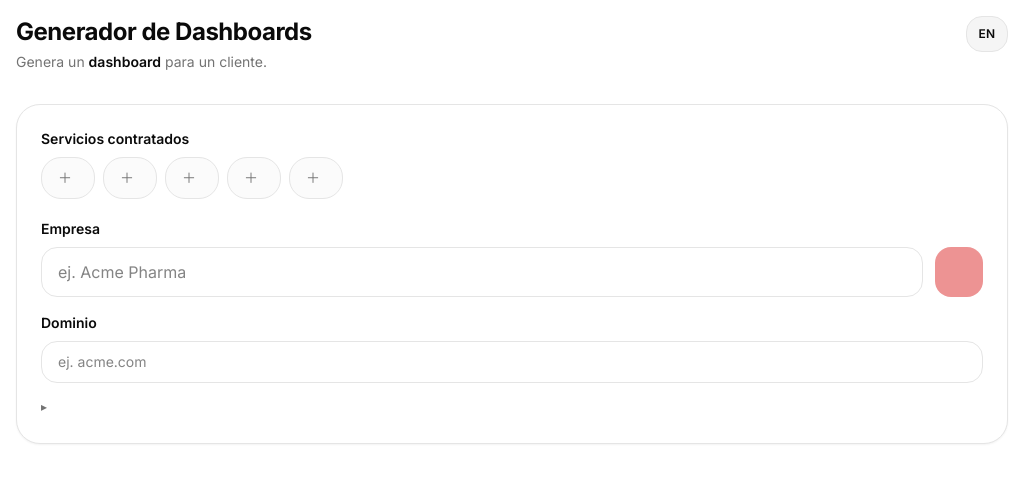
Test case: Dashboard Builder page — company picker › clicking a dropdown row fills the company field and closes the dropdown
The image size is (1025, 481).
Focus the field with placeholder "ej. Acme Pharma" at (482, 272), box left=41, top=247, right=923, bottom=297
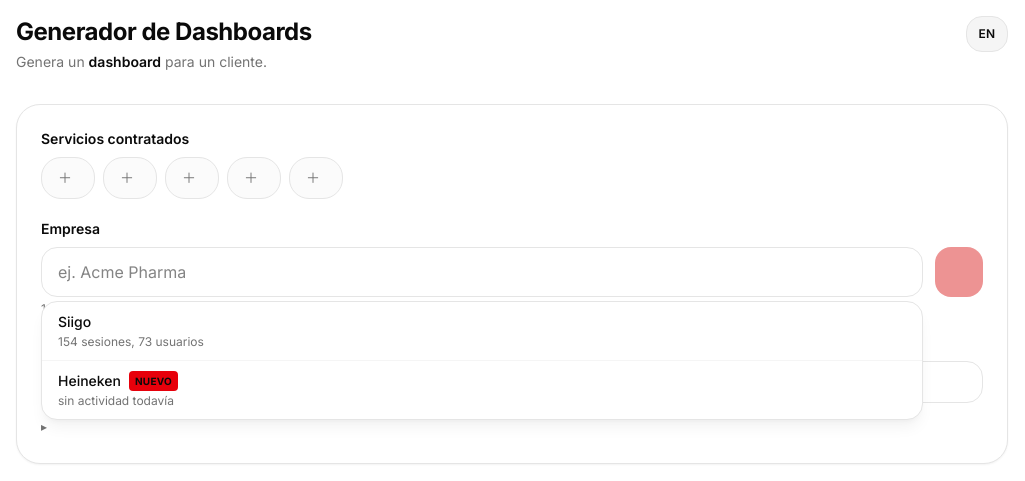
Click the text "Heineken" at (90, 381), box left=58, top=371, right=121, bottom=391
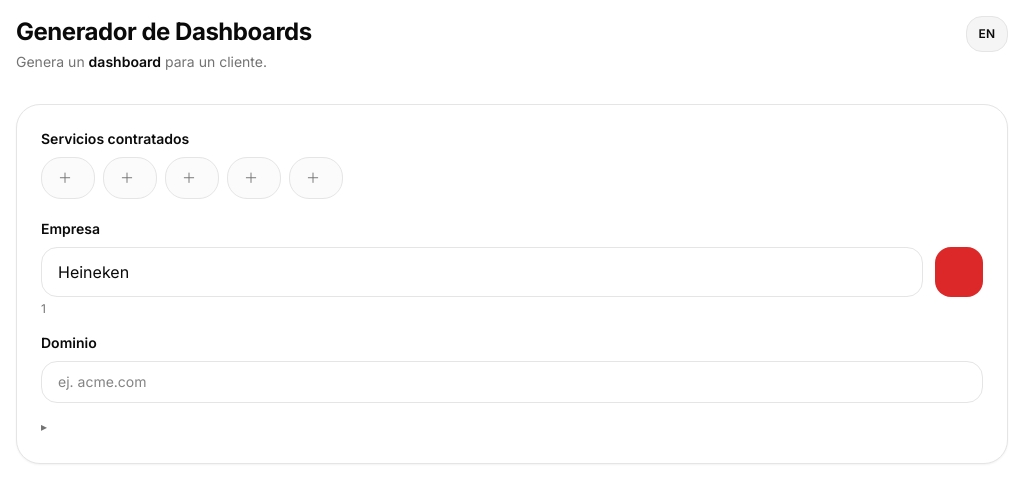
Expected: the field with placeholder "ej. Acme Pharma" holds "Heineken", left=41, top=247, right=923, bottom=297
Expected: the button "sin actividad todavía" is gone
